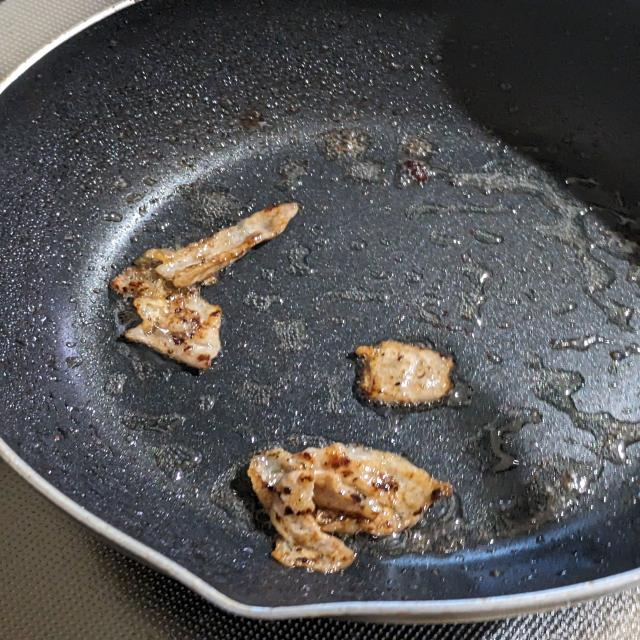OK cooked pork,: (105, 190, 311, 384), (225, 435, 469, 579), (352, 329, 465, 419)
